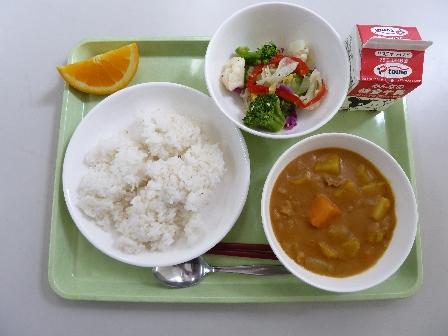Citrus: (43, 40, 143, 100)
Curry: (269, 138, 413, 282)
Milk: (337, 17, 435, 116)
Rice: (70, 94, 239, 261)
Salad: (214, 21, 330, 133)
